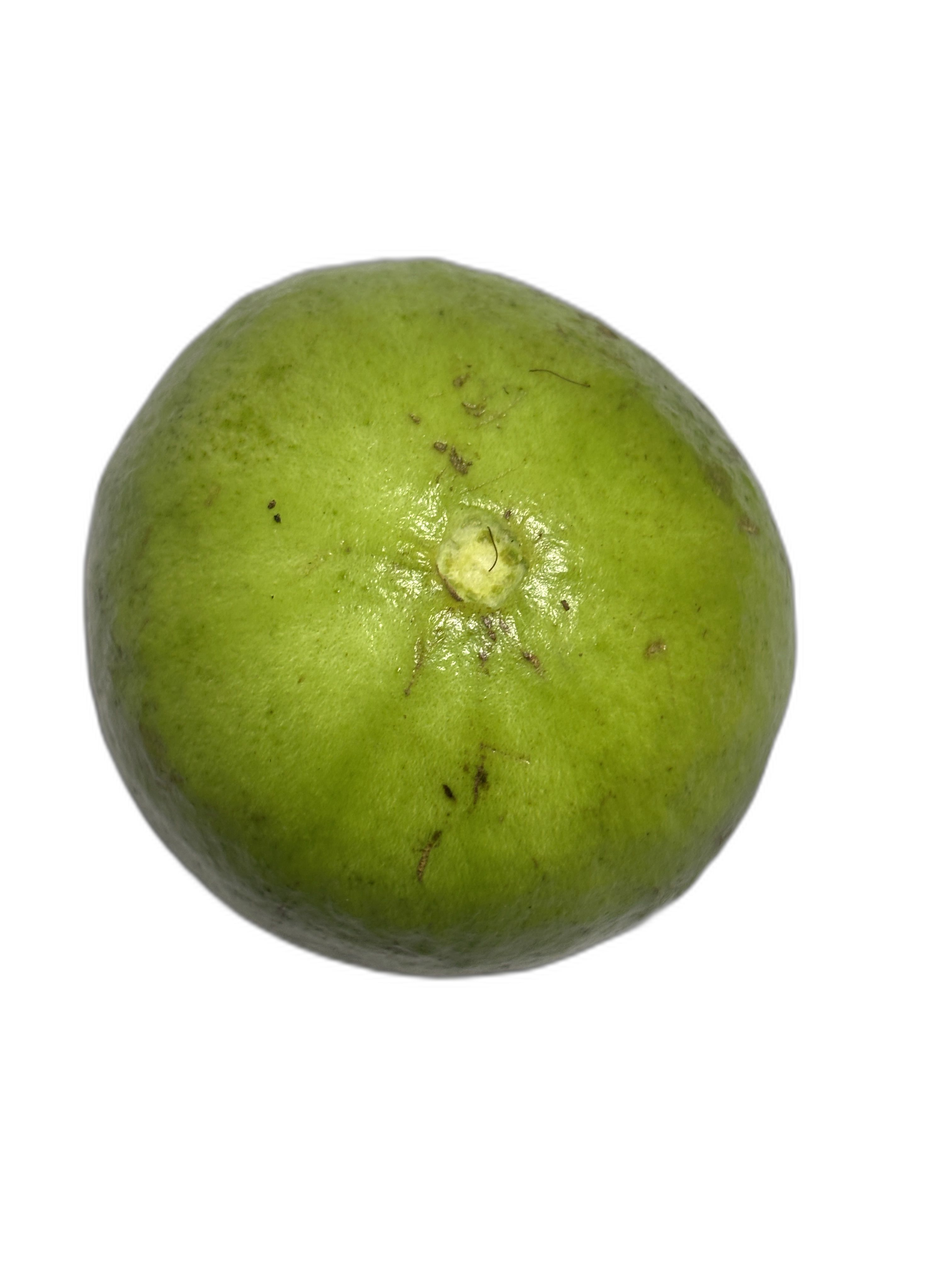guava: (119, 101, 750, 1086)
